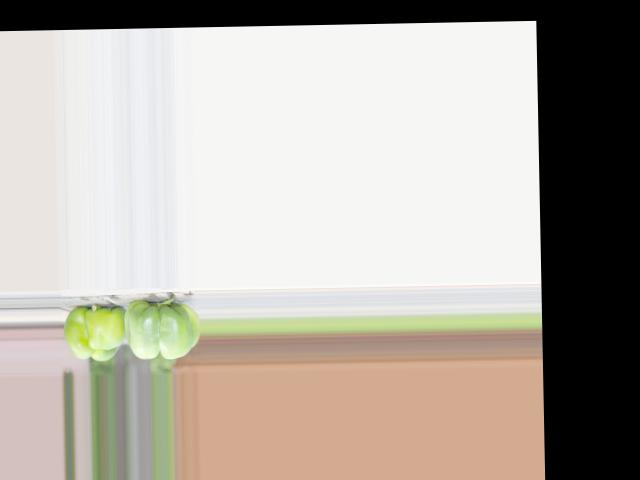bell_pepper: (61, 300, 127, 364)
